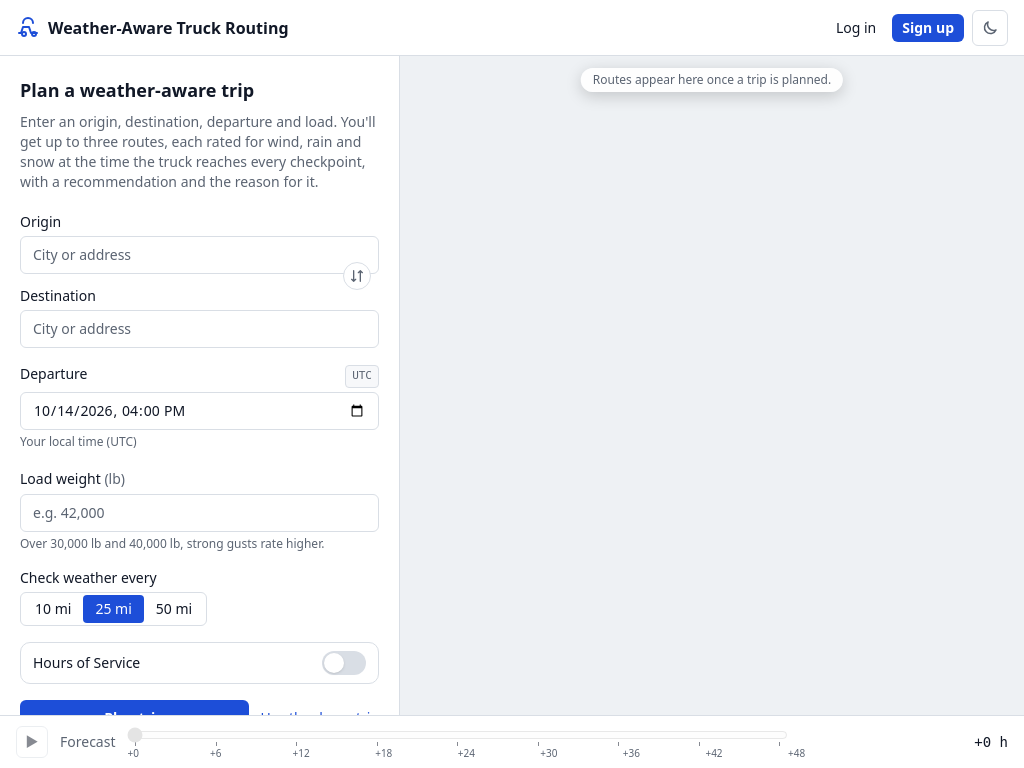
App shell › switches every surface by toggling the theme on <html>
This screenshot has width=1024, height=768.
Click the button named "Switch to dark theme" at (990, 28), box [972,10,1008,46]
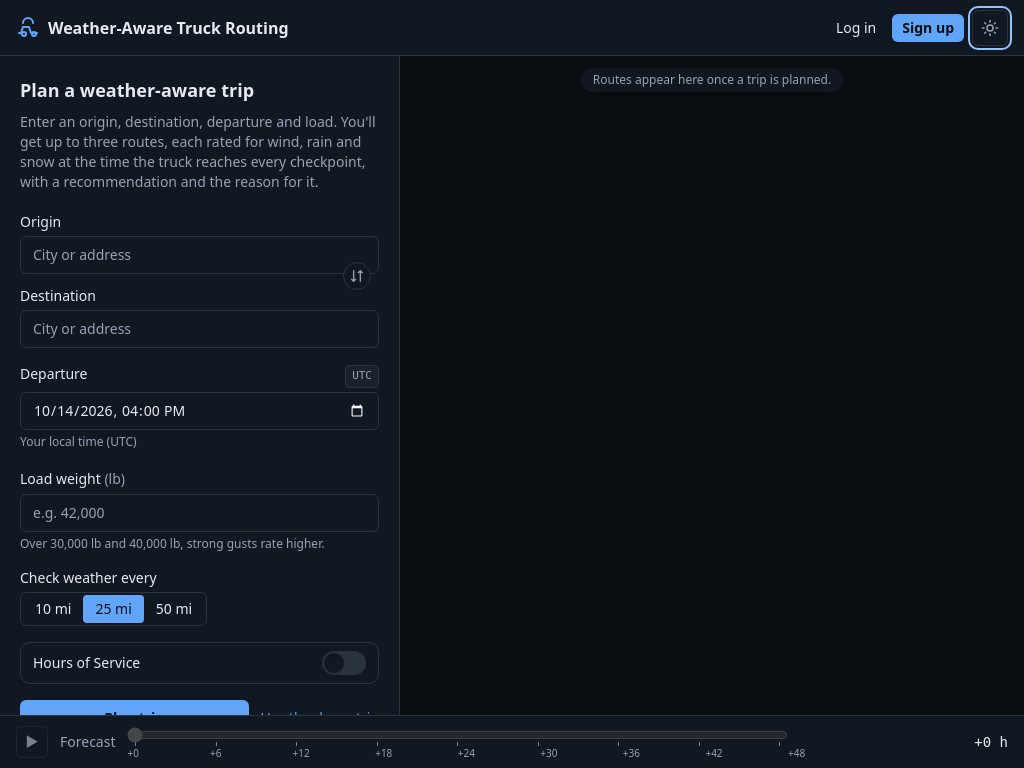
Check: the button named "Switch to light theme" is shown, box [972,10,1008,46]
